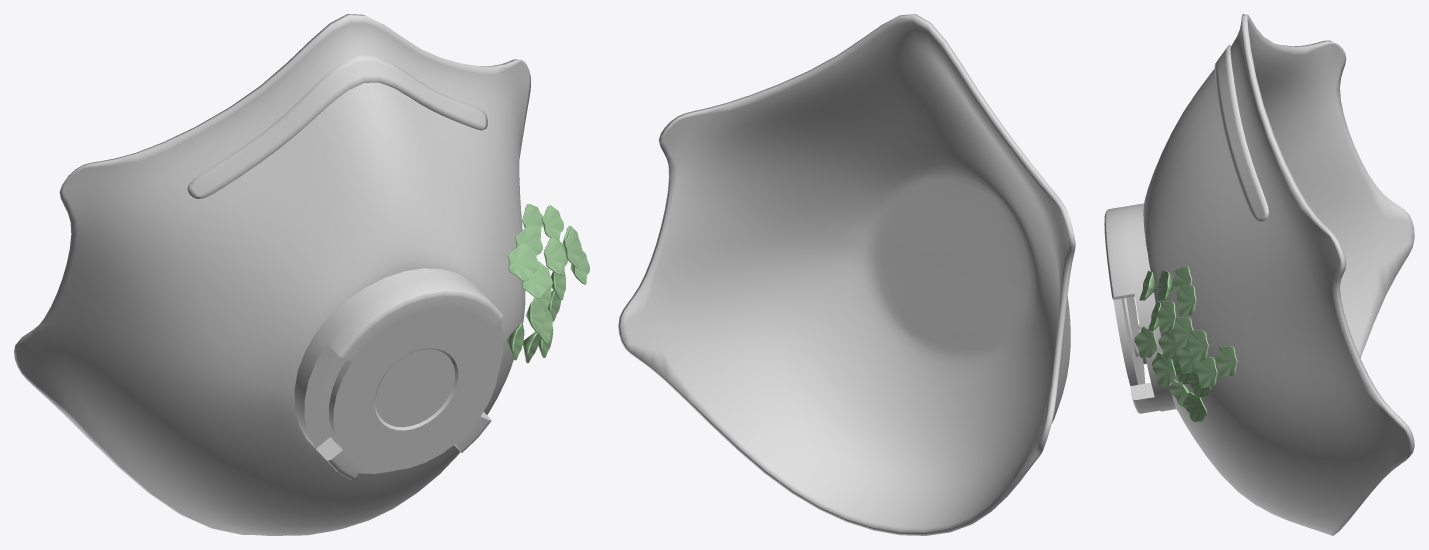
Rendered from mask2.glb.
The picture shows the model from 3 angles, left to right: view 1: azimuth 30°, elevation 25°; view 2: azimuth 150°, elevation 25°; view 3: azimuth 270°, elevation 25°; orthographic projection. The views are drawn at different scales.
Visible parts, largest first — view 1: Plane, Cylinder, Circle.004; view 2: Plane; view 3: Plane, Cylinder, Circle.021, Circle.019, Circle.020, Circle.014, Circle.006, Circle.013, Circle.005, Circle.009, Circle.018, Circle.010 (+1 smaller).
Boxes of the visible parts, x1,y1,x2,y2 form: Plane: (14, 14, 530, 535); Cylinder: (294, 268, 503, 479); Circle.004: (507, 243, 539, 281); Plane: (618, 14, 1075, 535); Plane: (1143, 14, 1414, 535); Cylinder: (1104, 203, 1176, 413); Circle.021: (1215, 346, 1237, 377); Circle.019: (1187, 330, 1208, 361); Circle.020: (1195, 357, 1217, 388); Circle.014: (1134, 326, 1157, 358); Circle.006: (1176, 285, 1196, 316); Circle.013: (1152, 354, 1175, 385); Circle.005: (1157, 301, 1176, 332); Circle.009: (1172, 317, 1193, 348); Circle.018: (1183, 392, 1207, 421); Circle.010: (1158, 331, 1180, 359).
Bounding box in the file's own units: 1.93 × 2.08 × 1.17.
